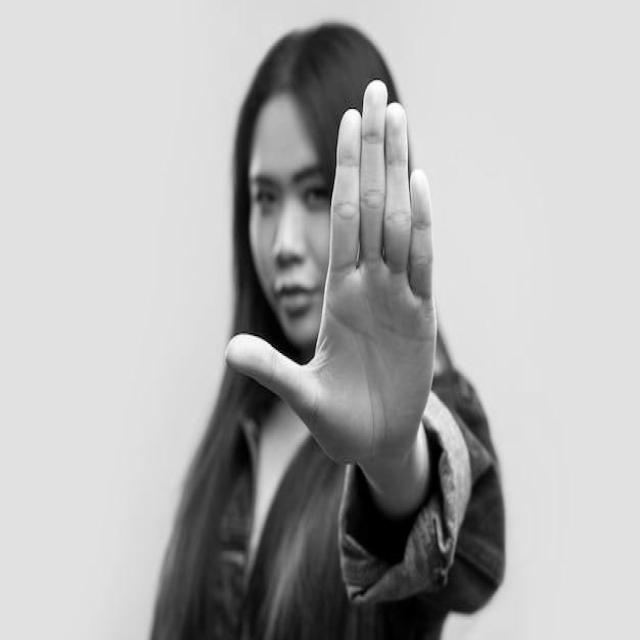stop: (220, 75, 444, 481)
